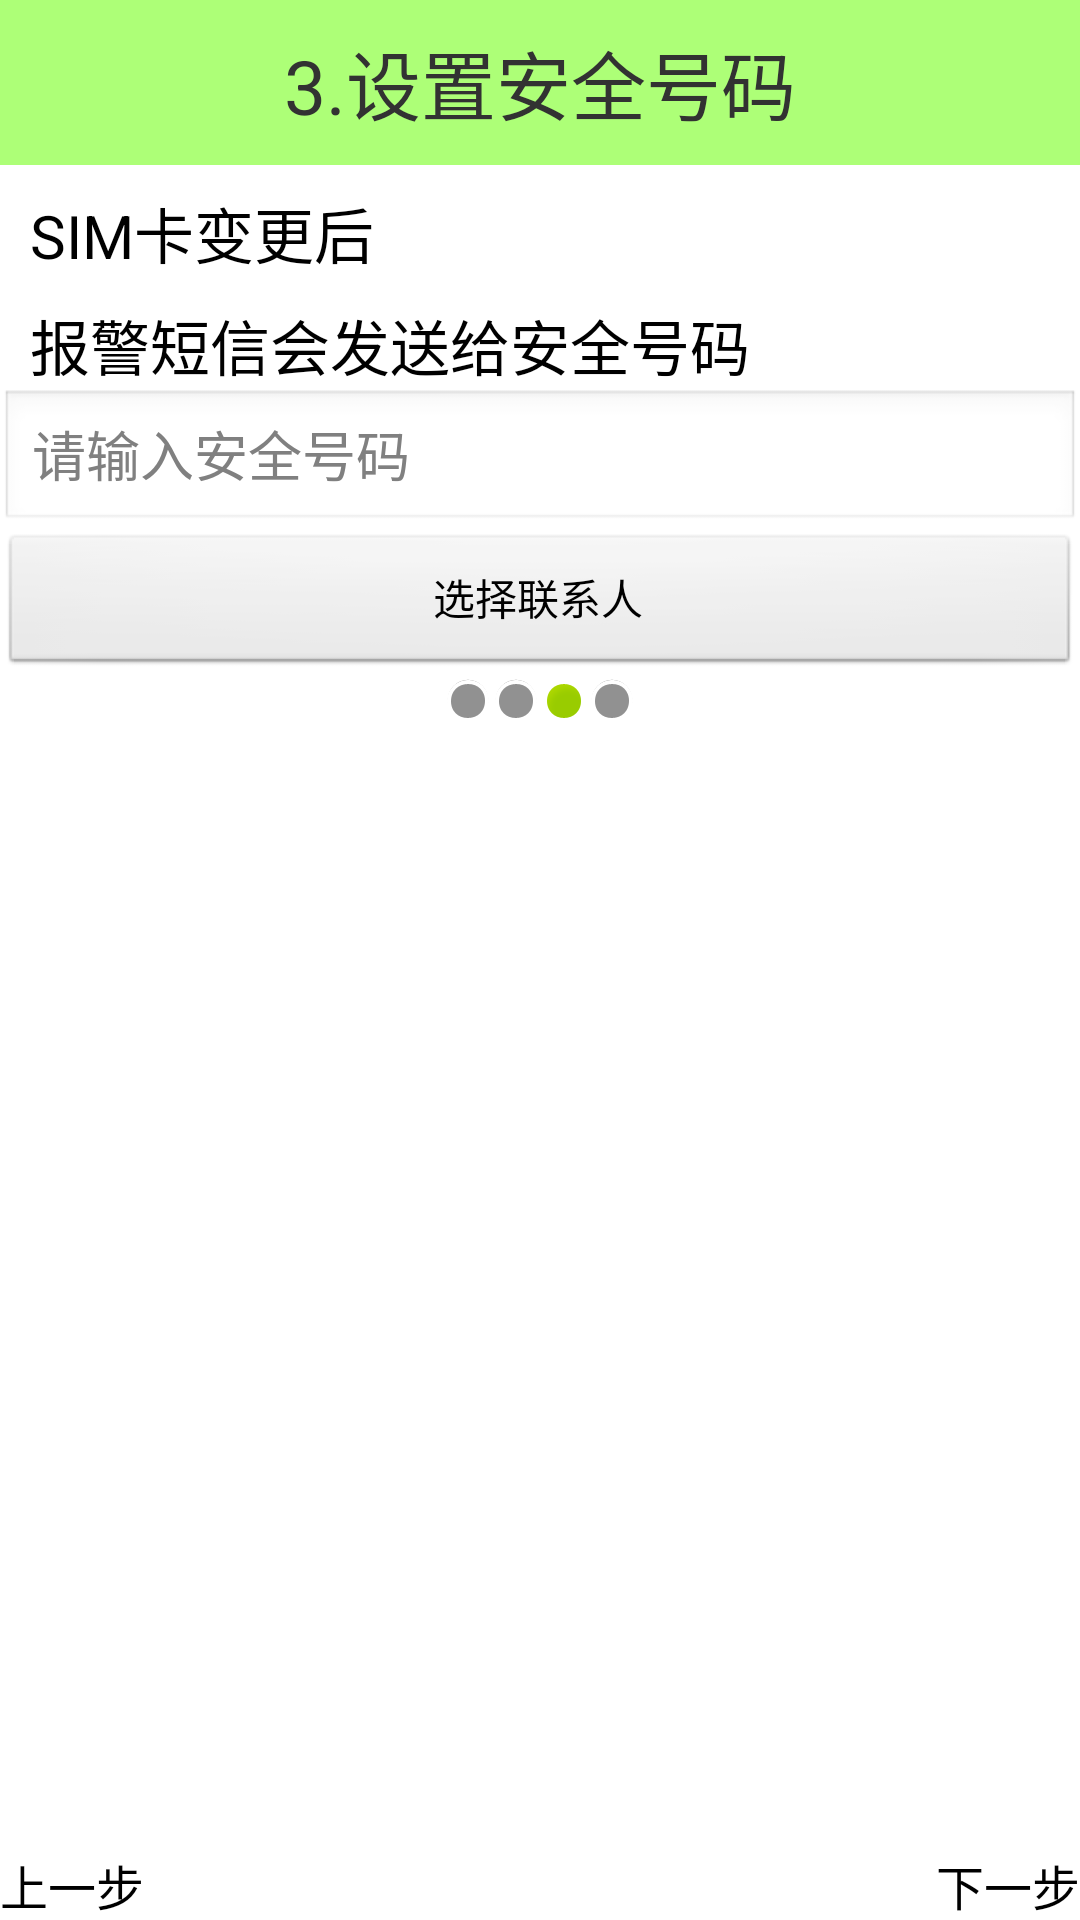

Screen size 1080 × 1920. Icon name, then its center in pixels as [x,y]:
presence invisible: [468,699], [516,699], [612,699]
presence online: [564,701]
